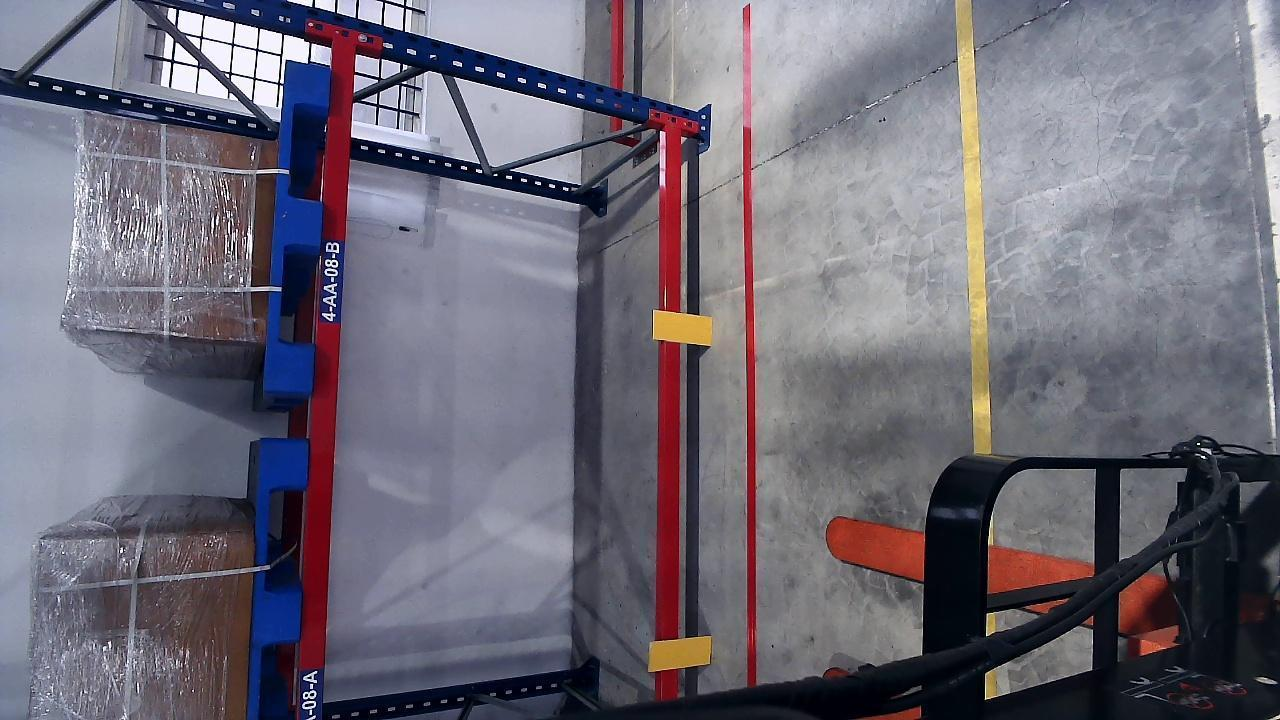red_line: (739, 4, 755, 688)
yellow_line: (955, 3, 994, 455)
